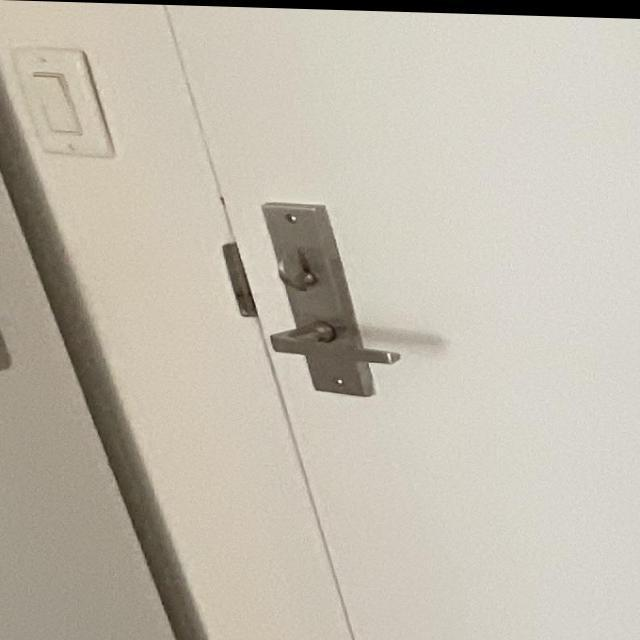door_handle: (241, 307, 409, 392)
